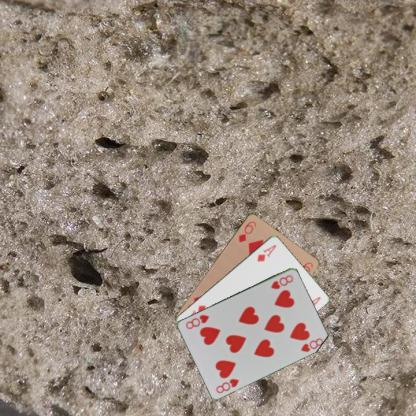6d: (236, 219, 257, 244)
8h: (268, 272, 295, 290), (213, 376, 240, 394)
Ad: (254, 242, 277, 263)
